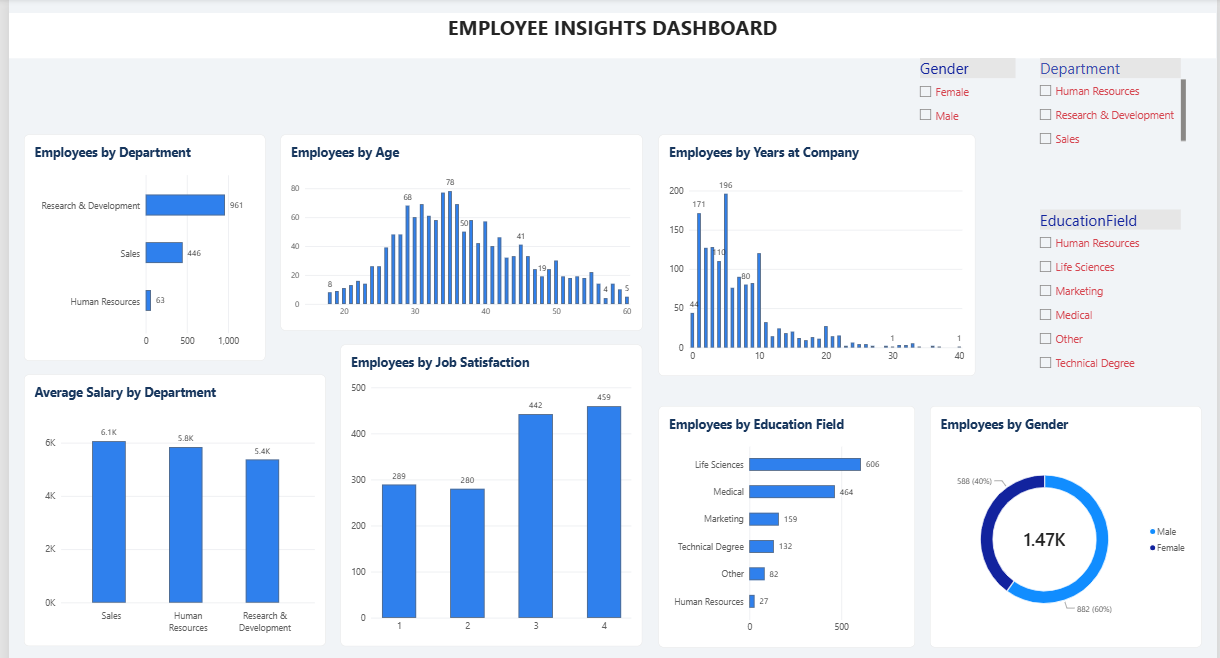

Layout of this report page (visuals, bound fields, positions):
{"tool":"powerbi","page":{"name":"Employee Insights","canvas":[1920,1080],"ordinal":1},"visuals":[{"type":"textbox","box":[0,24,1920,72],"z":0},{"type":"clusteredBarChart","title":"Employees by Department","fields":{"Category":["WA_Fn-UseC_-HR-Employee-Attrition.Department"],"Y":["CountNonNull(WA_Fn-UseC_-HR-Employee-Attrition.EmployeeNumber)"]},"box":[24,216,384,360],"z":1},{"type":"donutChart","title":"Employees by Gender","fields":{"Category":["WA_Fn-UseC_-HR-Employee-Attrition.Gender"],"Y":["CountNonNull(WA_Fn-UseC_-HR-Employee-Attrition.EmployeeNumber)"]},"box":[1464,648,432,384],"z":2},{"type":"clusteredColumnChart","title":"Employees by Age","fields":{"Category":["WA_Fn-UseC_-HR-Employee-Attrition.Age"],"Y":["CountNonNull(WA_Fn-UseC_-HR-Employee-Attrition.EmployeeNumber)"]},"box":[432,216,576,312],"z":3},{"type":"clusteredColumnChart","title":"Average Salary by Department","fields":{"Category":["WA_Fn-UseC_-HR-Employee-Attrition.Department"],"Y":["Avg(WA_Fn-UseC_-HR-Employee-Attrition.MonthlyIncome (bins))"]},"box":[24,600,480,432],"z":4},{"type":"clusteredColumnChart","title":"Employees by Job Satisfaction","fields":{"Category":["WA_Fn-UseC_-HR-Employee-Attrition.JobSatisfaction"],"Y":["CountNonNull(WA_Fn-UseC_-HR-Employee-Attrition.EmployeeNumber)"]},"box":[528,552,480,480],"z":5},{"type":"clusteredBarChart","title":"Employees by Education Field","fields":{"Category":["WA_Fn-UseC_-HR-Employee-Attrition.EducationField"],"Y":["CountNonNull(WA_Fn-UseC_-HR-Employee-Attrition.EmployeeNumber)"]},"box":[1032,648,408,384],"z":6},{"type":"clusteredColumnChart","title":"Employees by Years at Company","fields":{"Category":["WA_Fn-UseC_-HR-Employee-Attrition.YearsAtCompany"],"Y":["CountNonNull(WA_Fn-UseC_-HR-Employee-Attrition.EmployeeNumber)"]},"box":[1032,216,504,384],"z":7},{"type":"slicer","fields":{"Values":["WA_Fn-UseC_-HR-Employee-Attrition.Department"]},"box":[1632,96,240,144],"z":8},{"type":"slicer","fields":{"Values":["WA_Fn-UseC_-HR-Employee-Attrition.Gender"]},"box":[1440,96,168,144],"z":9},{"type":"slicer","fields":{"Values":["WA_Fn-UseC_-HR-Employee-Attrition.EducationField"]},"box":[1632,336,240,264],"z":10}]}

Visuals, with their boxes on the page's 1920x1080 design canvas (x1, y1, x2, y2). These are canvas units, not pixel positions in the 1220x658 screenshot, which may show the page scaled, cropped or inside an application window:
textbox: 0:24:1920:96
"Employees by Department" clusteredBarChart: 24:216:408:576
"Employees by Gender" donutChart: 1464:648:1896:1032
"Employees by Age" clusteredColumnChart: 432:216:1008:528
"Average Salary by Department" clusteredColumnChart: 24:600:504:1032
"Employees by Job Satisfaction" clusteredColumnChart: 528:552:1008:1032
"Employees by Education Field" clusteredBarChart: 1032:648:1440:1032
"Employees by Years at Company" clusteredColumnChart: 1032:216:1536:600
slicer - WA_Fn-UseC_-HR-Employee-Attrition.Department: 1632:96:1872:240
slicer - WA_Fn-UseC_-HR-Employee-Attrition.Gender: 1440:96:1608:240
slicer - WA_Fn-UseC_-HR-Employee-Attrition.EducationField: 1632:336:1872:600
